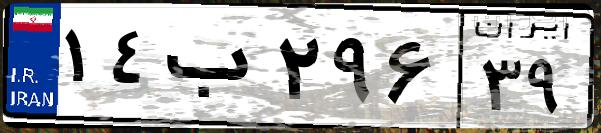1: (57, 26, 110, 100)
2: (270, 28, 330, 110)
3: (475, 38, 525, 113)
4: (110, 28, 158, 98)
6: (385, 28, 445, 110)
9: (330, 28, 385, 110), (525, 38, 570, 115)
ب: (158, 20, 270, 120)
